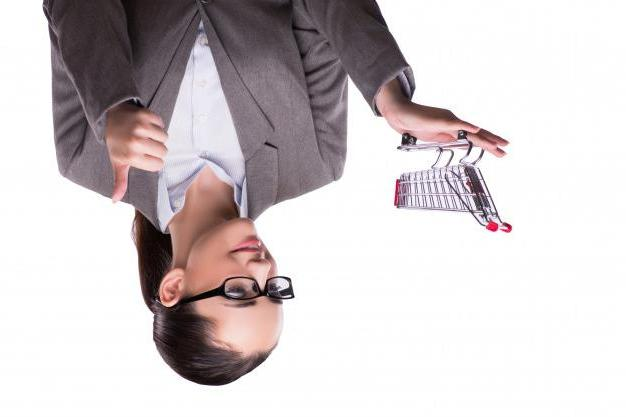thumbsdown: (111, 108, 169, 205)
